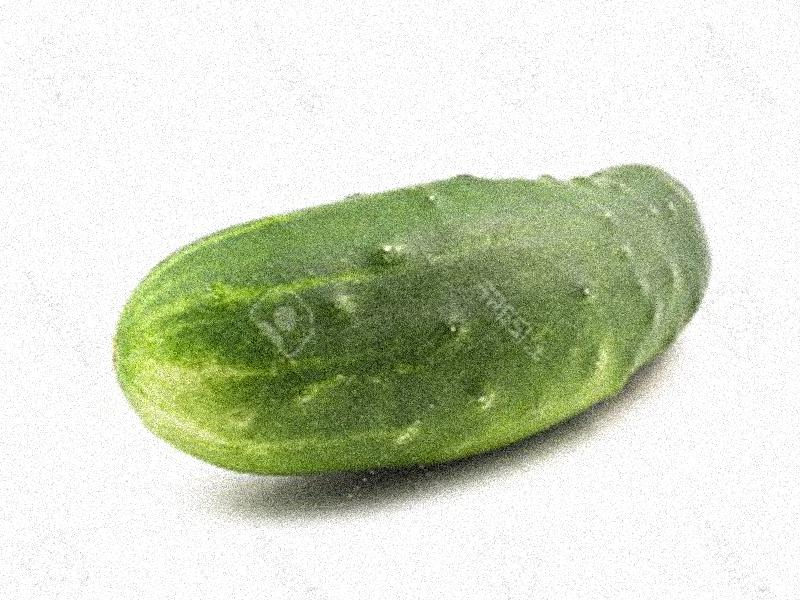Cucumber: (112, 164, 711, 478)
